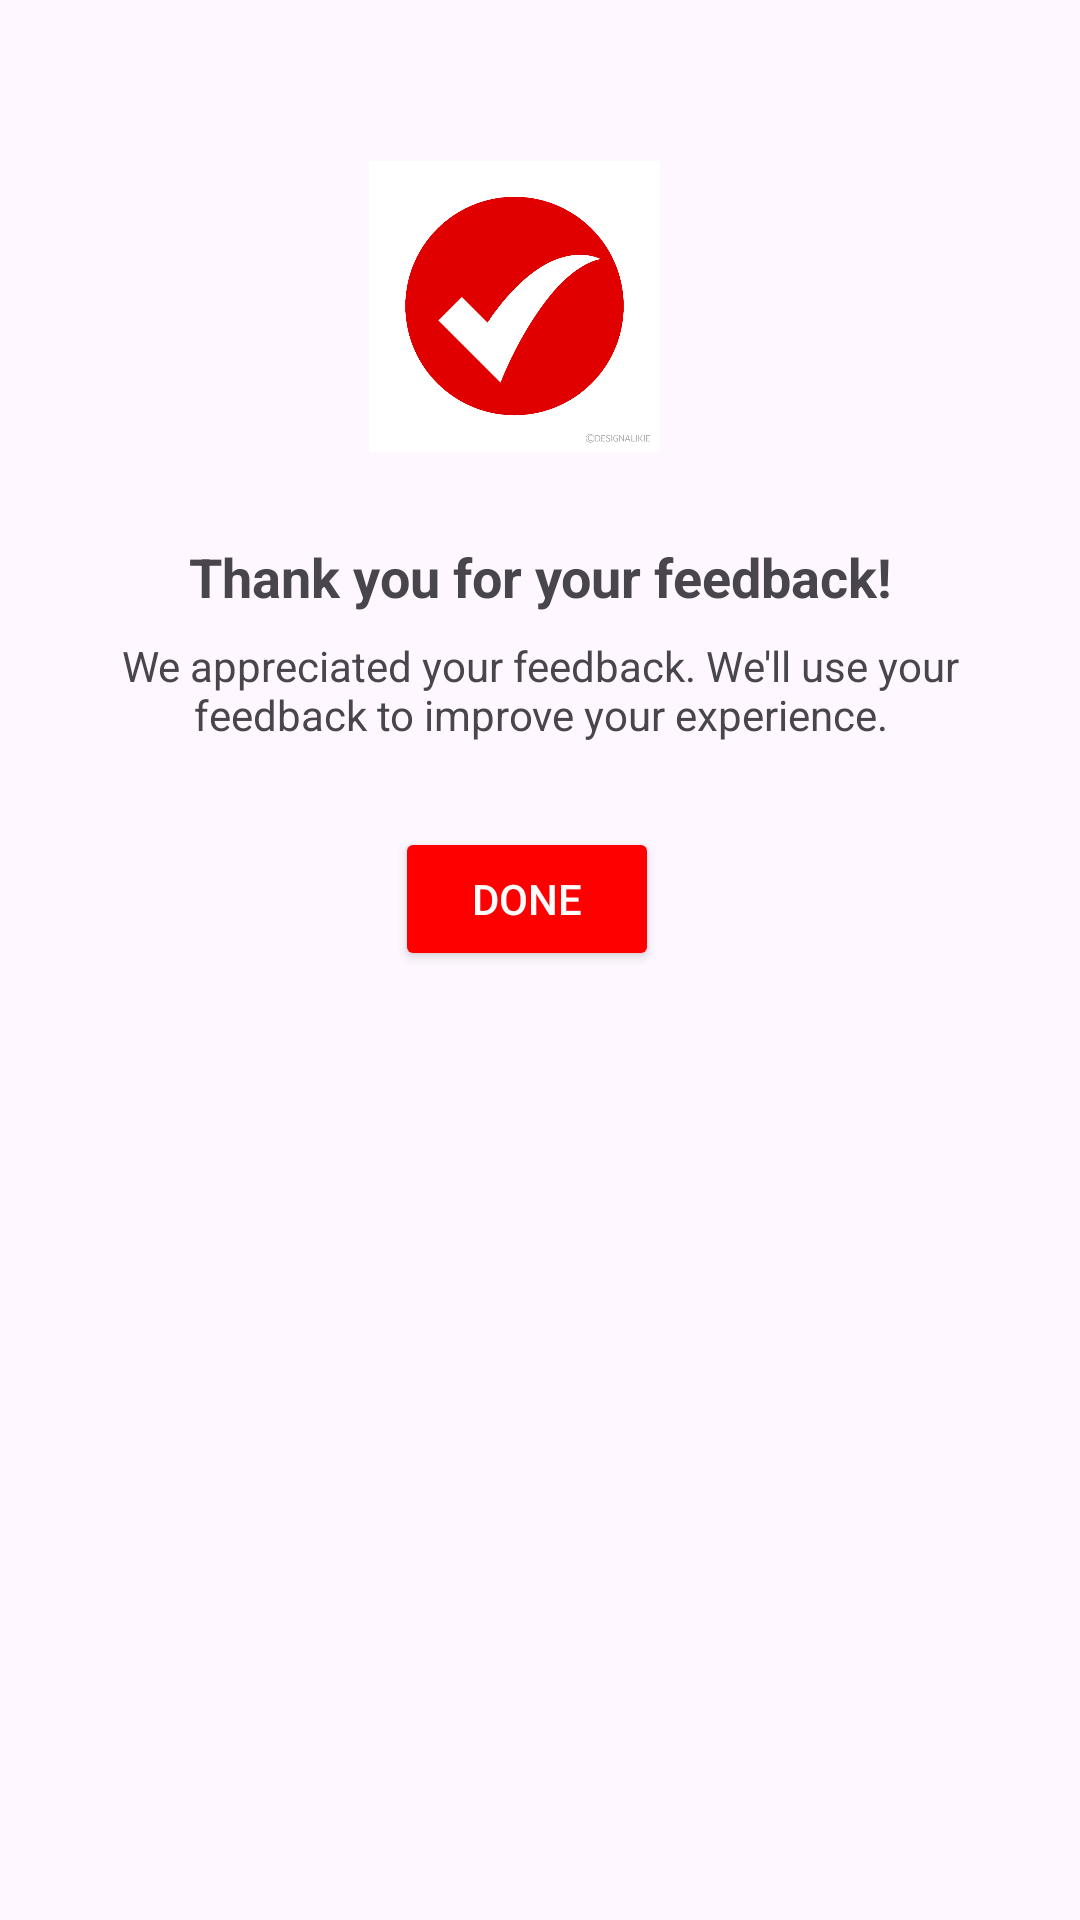

Locate icon controls on the screen. Image size 1080 × 1920, boxes as [x1=x1, y1=y1, x2=x2, y2=y2].
rating success: [x1=405, y1=197, x2=650, y2=443]
